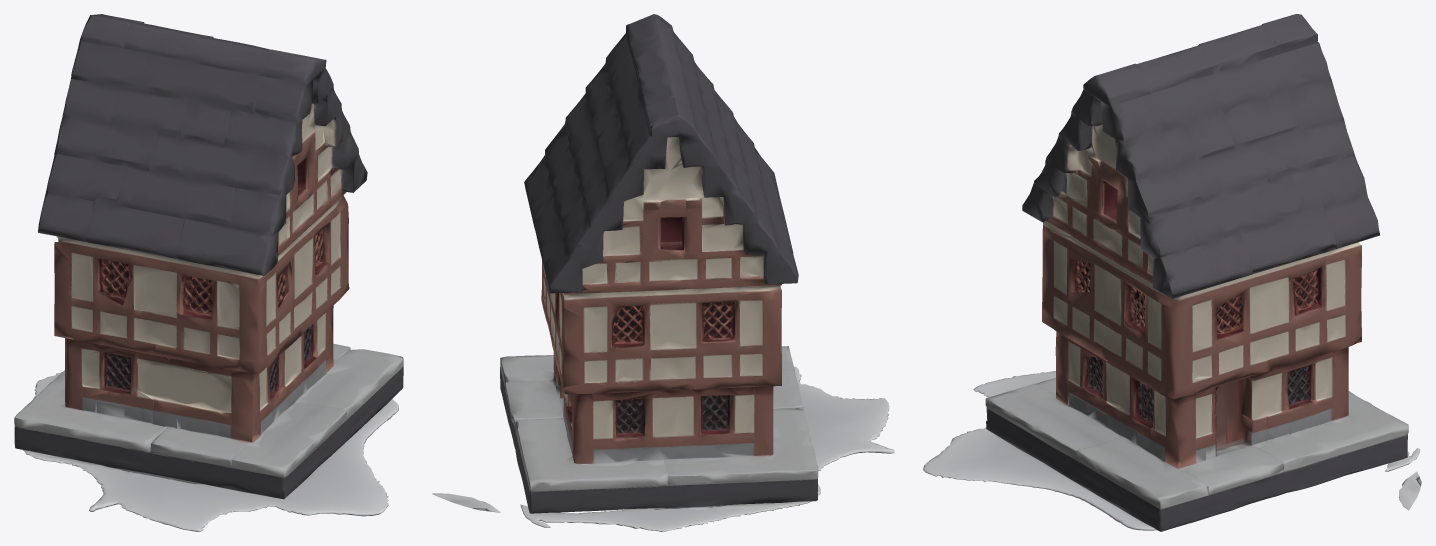
Rendered from mitsui.glb.
The picture shows the model from 3 angles, left to right: view 1: azimuth 30°, elevation 25°; view 2: azimuth 150°, elevation 25°; view 3: azimuth 270°, elevation 25°; orthographic projection. The views are drawn at different scales.
Parts seen in each view (by area): view 1: tripo_node_d58c1fc1-8243-41f8-a9c5-b51ea4fe38f8; view 2: tripo_node_d58c1fc1-8243-41f8-a9c5-b51ea4fe38f8; view 3: tripo_node_d58c1fc1-8243-41f8-a9c5-b51ea4fe38f8.
Boxes of the visible parts, <box> form: tripo_node_d58c1fc1-8243-41f8-a9c5-b51ea4fe38f8: <box>14,14,403,531</box>; tripo_node_d58c1fc1-8243-41f8-a9c5-b51ea4fe38f8: <box>432,14,894,531</box>; tripo_node_d58c1fc1-8243-41f8-a9c5-b51ea4fe38f8: <box>923,14,1421,531</box>.
Bounding box in the file's own units: 0.859 × 0.9085 × 1.02.
1 material, 1 textured.
